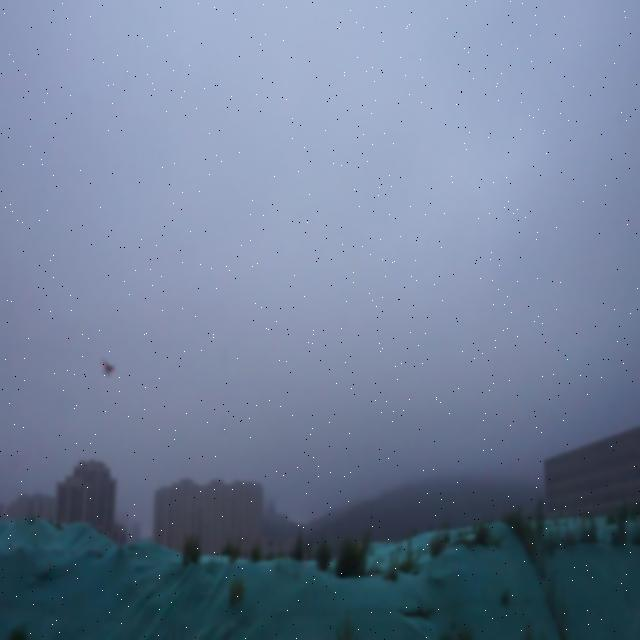UAV: (101, 358, 118, 375)
